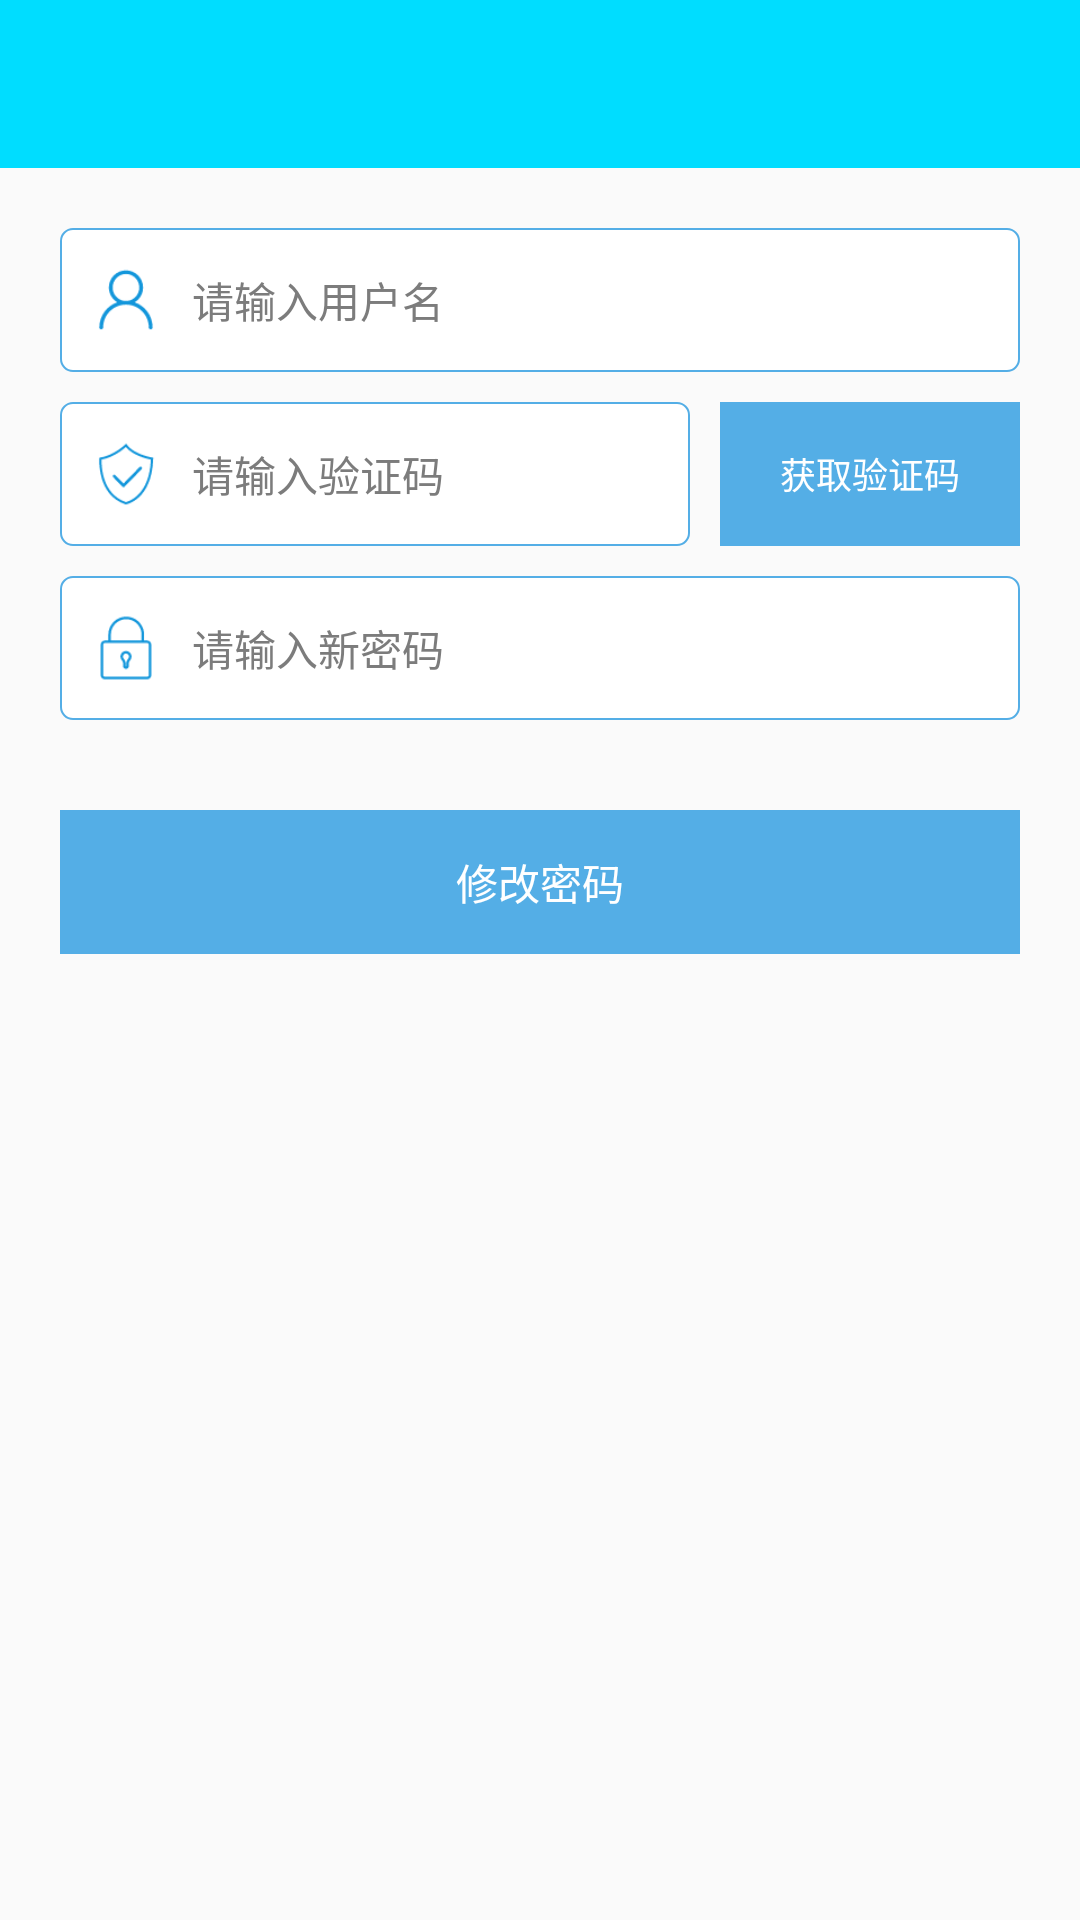

Where to tap for icons on this 1080*1920 app screen, as point (x, y):
login pw: point (126, 648)
login user: point (126, 300)
user yzm: point (126, 474)
